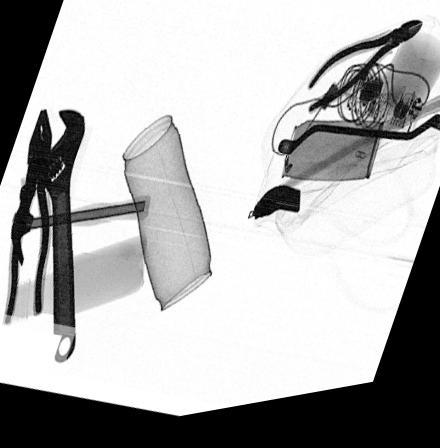Hammer: (242, 112, 440, 231), (9, 184, 154, 268)
Pliers: (303, 30, 423, 129), (0, 108, 53, 327)
Wrench: (30, 111, 84, 364), (278, 125, 440, 171)
